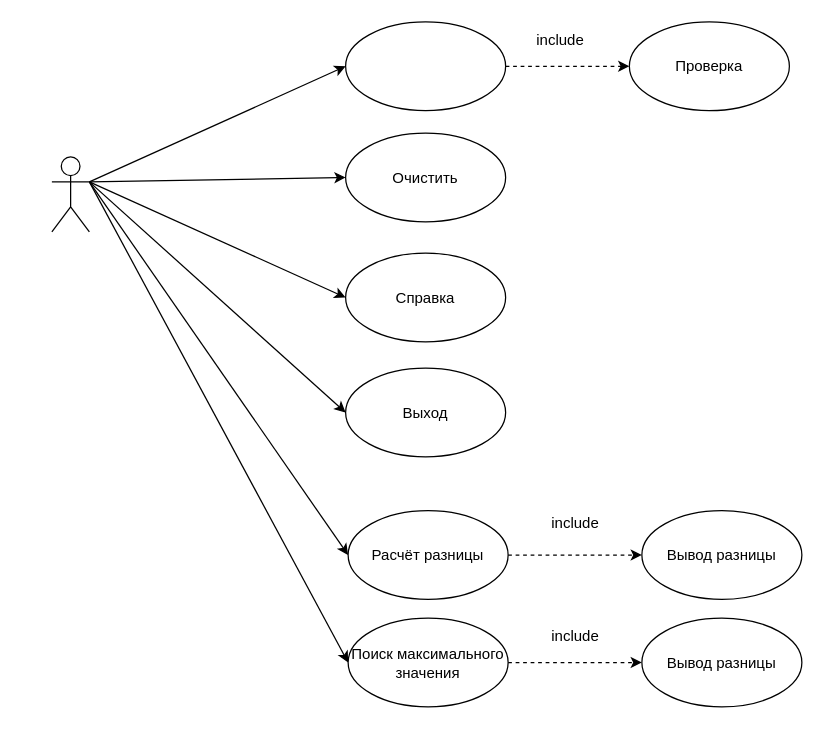
Some shapes in this 824 by 729 pixel diagram are drawn without their labels. Each missing label, with the centre of its shape:
"Ввод значений" belongs at pixel 425 66.
"Пользователь" belongs at pixel 70 194.
